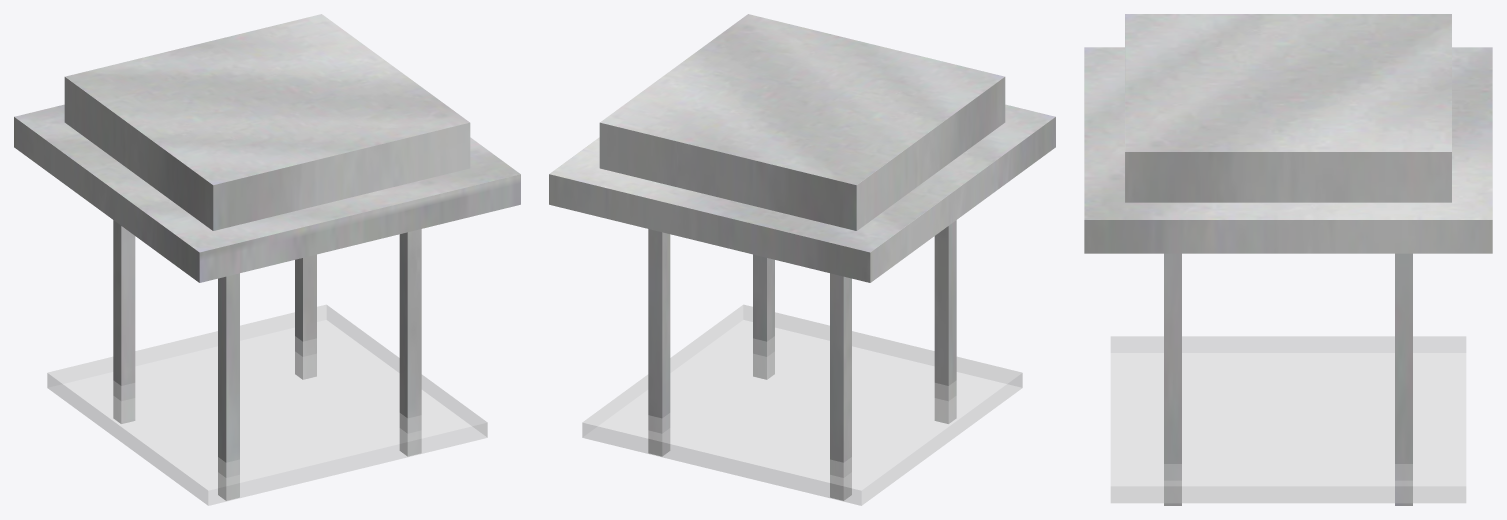
File: sh-contrib-ceiling-lamp-globo-feria.glb
3 renders of one model, left to right at view 1: azimuth 30°, elevation 25°; view 2: azimuth 150°, elevation 25°; view 3: azimuth 270°, elevation 25°, orthographic. The views are drawn at different scales.
Parts seen in each view (by area): view 1: PolyMesh_1_2_2, PolyMesh_2_1_1; view 2: PolyMesh_1_2_2, PolyMesh_2_1_1; view 3: PolyMesh_1_2_2, PolyMesh_2_1_1.
Boxes of the visible parts, left/top/right/bottom form: PolyMesh_1_2_2: left=14, top=14, right=520, bottom=500; PolyMesh_2_1_1: left=47, top=304, right=487, bottom=505; PolyMesh_1_2_2: left=549, top=14, right=1055, bottom=500; PolyMesh_2_1_1: left=582, top=304, right=1022, bottom=505; PolyMesh_1_2_2: left=1084, top=14, right=1492, bottom=505; PolyMesh_2_1_1: left=1110, top=336, right=1466, bottom=503.
Size of the model in its own units: 1 by 1 by 1.
Materials: 2 (1 with a texture image).
